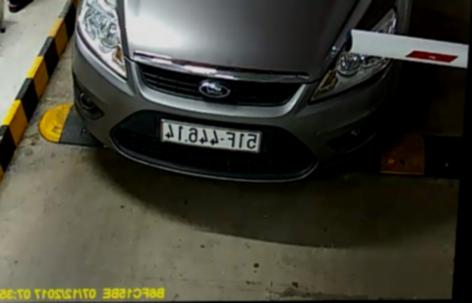License_Plate: (151, 117, 264, 154)
